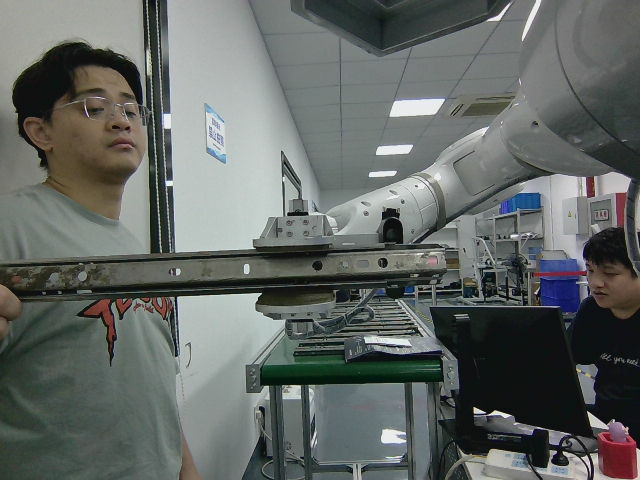right: (2, 242, 448, 304)
